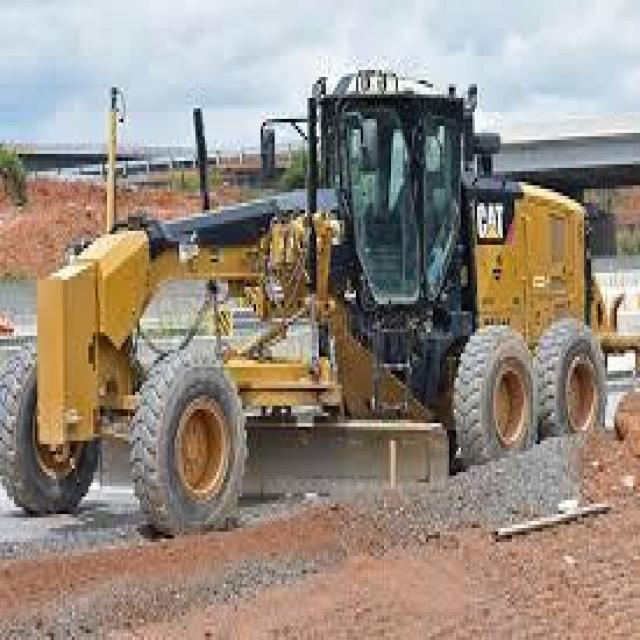Grader: (9, 46, 605, 549)
